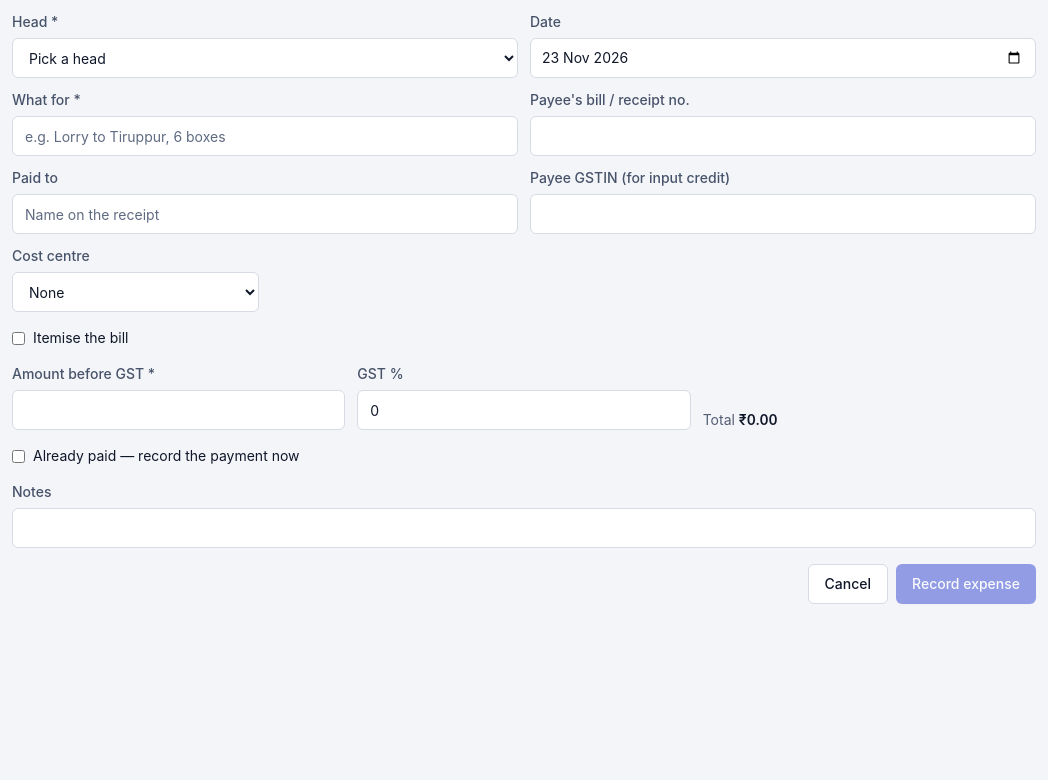
Scenario: the expense form › a head that always needs approval says so, and its GST is not claimable
Select "Electricity" in the dropdown labelled "Head *" at [265, 58], box [12,38,518,78]
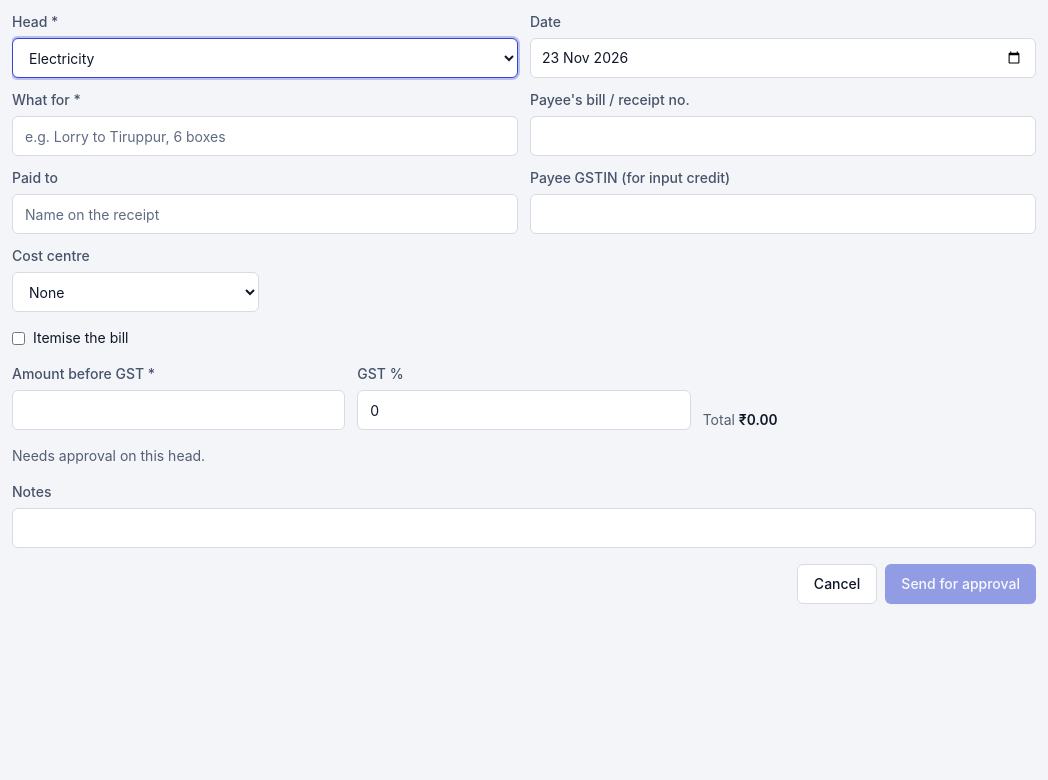
Type "EB bill" into the field labelled "What for *" at [265, 136], box [12,116,518,156]
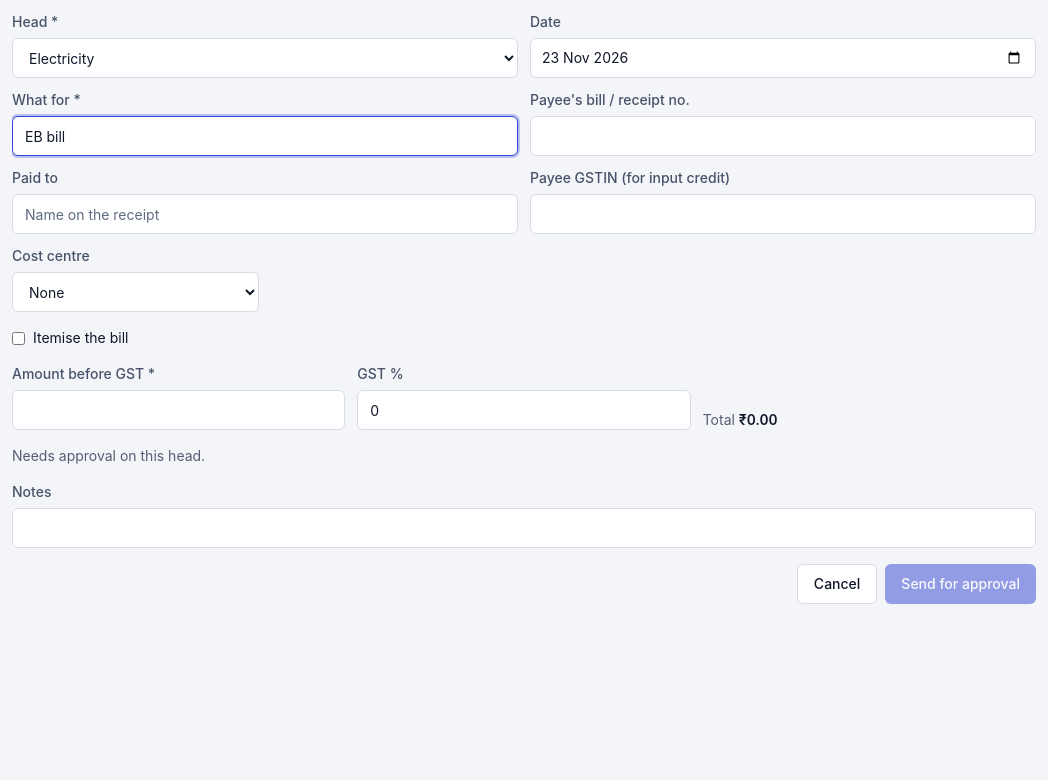
Type "3000" into the number field labelled "Amount before GST *" at [179, 410], box [12,390,345,430]
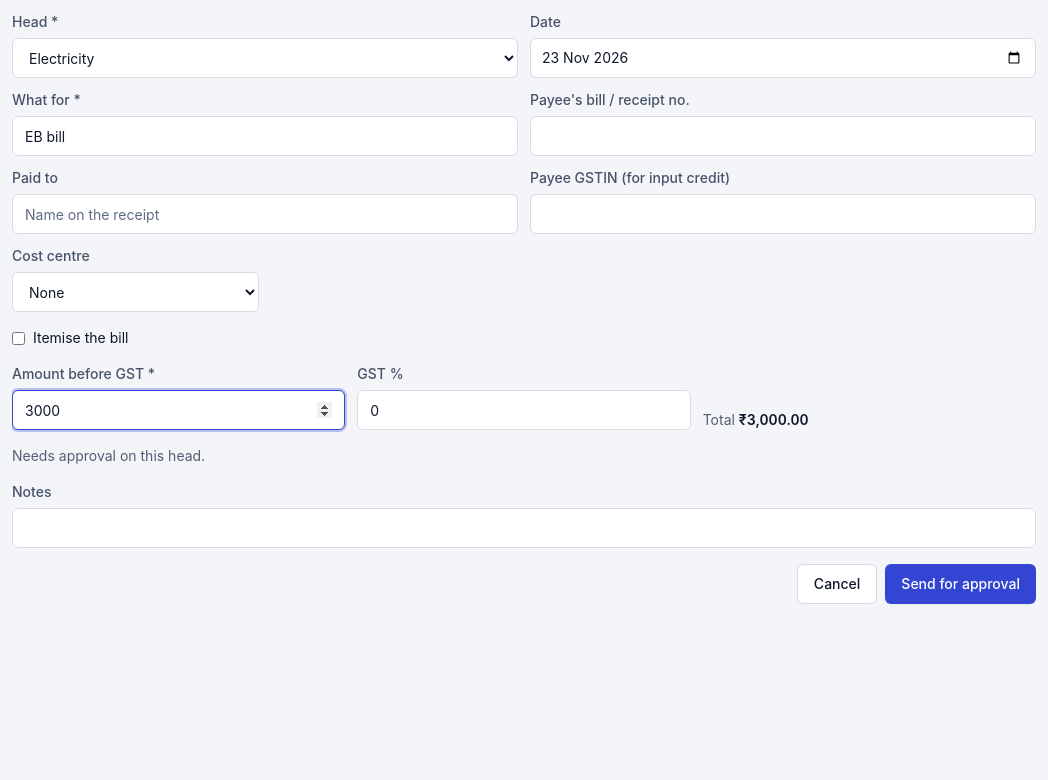
Check: the text "Needs approval on this head." is shown, box [12,447,205,464]
Check: the element named "Expense total" shows "₹3,000.00", box [703,411,809,428]
